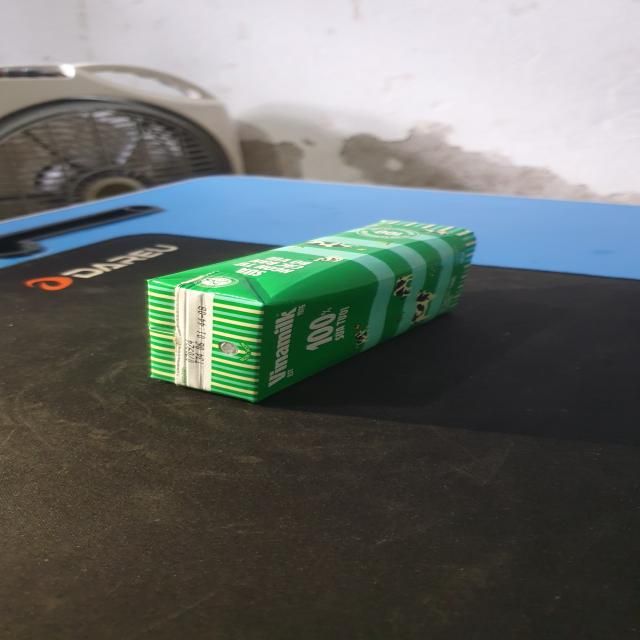Vina: (143, 220, 485, 407)
